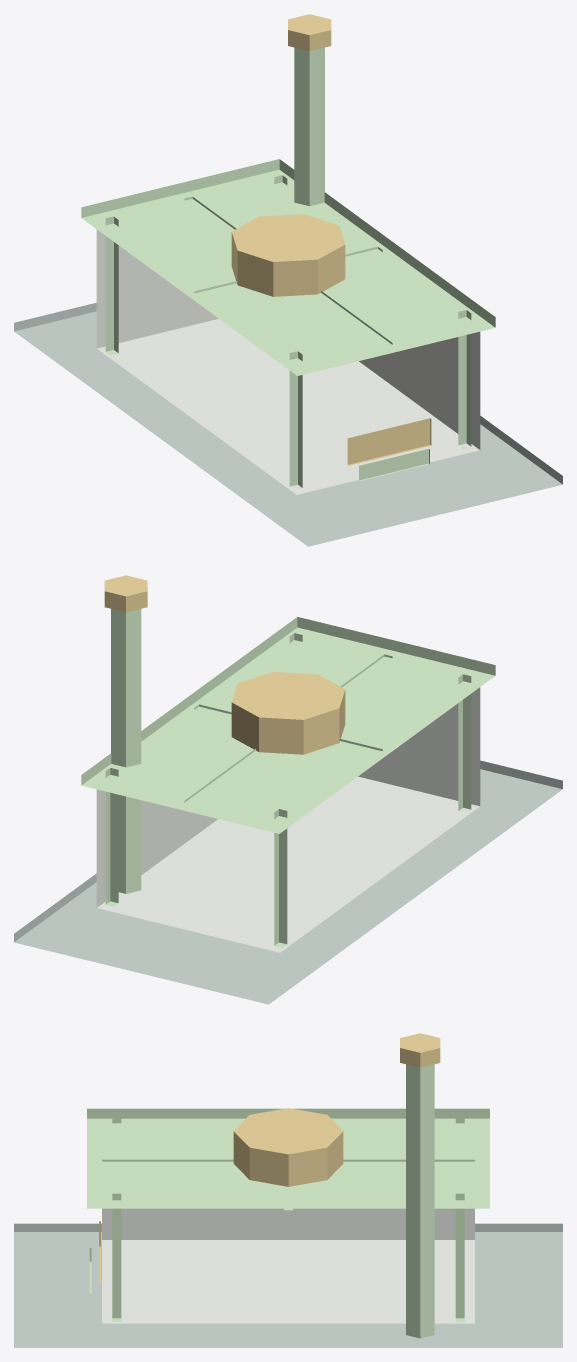
The model's file is mosque.glb.
3 renders of one model, top to bottom at view 1: azimuth 30°, elevation 25°; view 2: azimuth 150°, elevation 25°; view 3: azimuth 270°, elevation 25°, orthographic. The views are drawn at different scales.
Visible parts, largest first — view 1: Walls, Roof, Foundation, Details, Frame; view 2: Walls, Roof, Foundation, Details, Frame; view 3: Walls, Foundation, Roof, Details, Frame.
Part boxes in pixels (x1,y1,x2,y2): Walls: (96, 229, 480, 494); Roof: (81, 159, 495, 375); Foundation: (14, 302, 562, 546); Details: (231, 14, 431, 481); Frame: (105, 175, 471, 488); Walls: (96, 687, 480, 952); Roof: (81, 617, 495, 833); Foundation: (14, 760, 562, 1004); Details: (104, 575, 345, 893); Frame: (105, 633, 471, 947); Walls: (102, 1208, 474, 1323); Foundation: (14, 1223, 562, 1347); Roof: (87, 1108, 489, 1208); Details: (89, 1033, 440, 1338); Frame: (102, 1117, 474, 1321).
Size of the model in its own units: 20 by 23.2 by 40.
